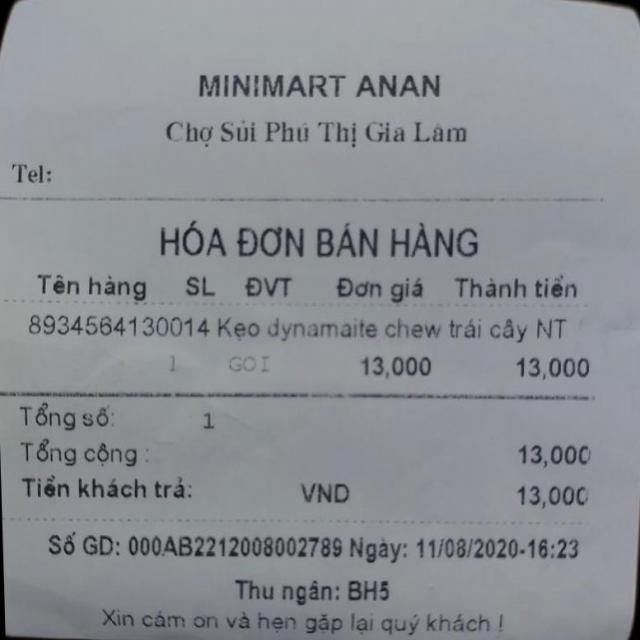Date: (414, 533, 522, 565)
Store_Name: (167, 57, 463, 109)
Total_Amount: (14, 432, 606, 475)
